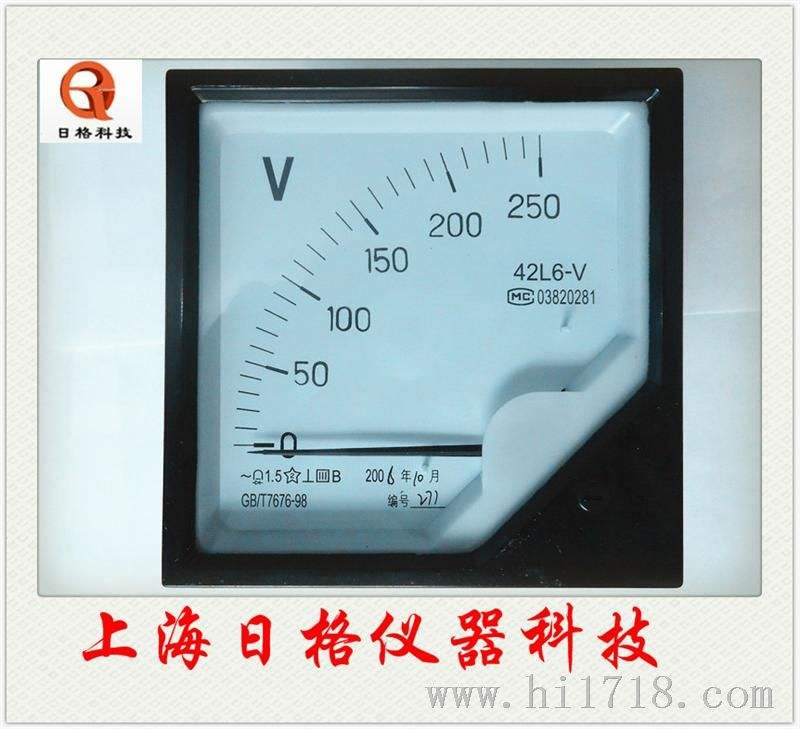pointer: (190, 90, 651, 561)
